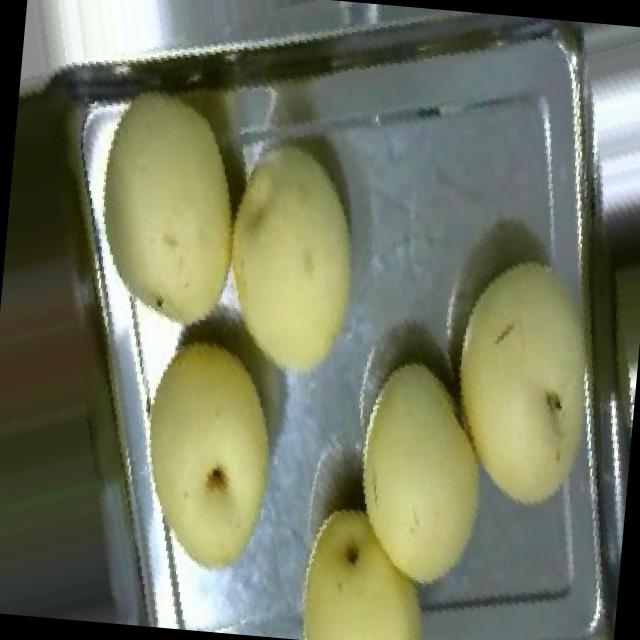Fruit: (411, 233, 640, 538), (58, 65, 260, 367), (316, 334, 522, 617), (105, 312, 309, 594), (196, 116, 390, 406), (258, 475, 487, 640)
